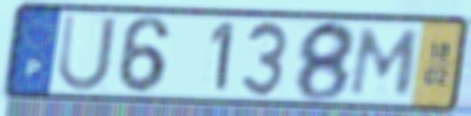1: (207, 20, 235, 96)
3: (238, 19, 291, 100)
6: (114, 14, 174, 96)
8: (295, 17, 360, 104)
M: (346, 25, 425, 98)
U: (55, 12, 120, 94)
